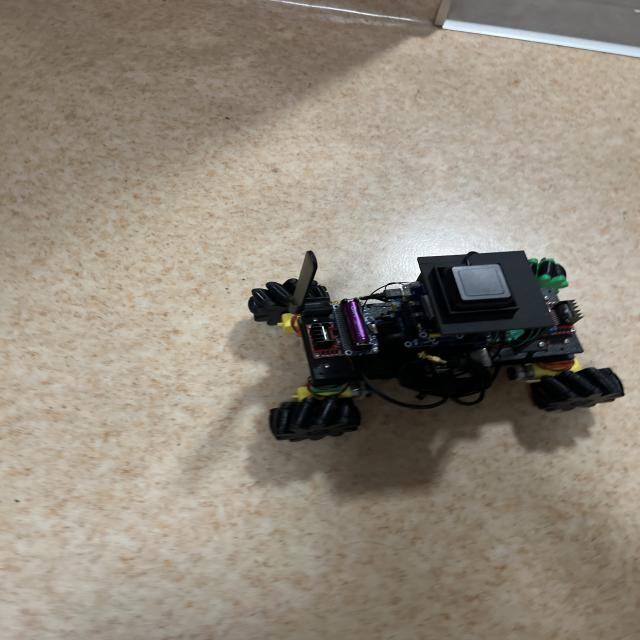robot: (248, 251, 624, 441)
